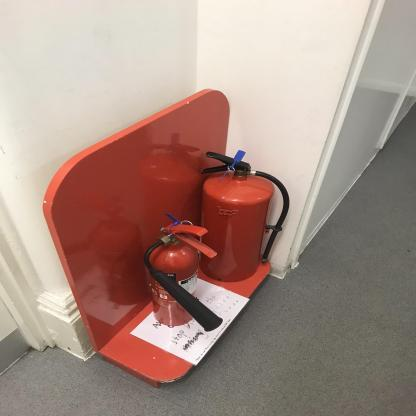Fire Extinguisher: (141, 147, 298, 339)
